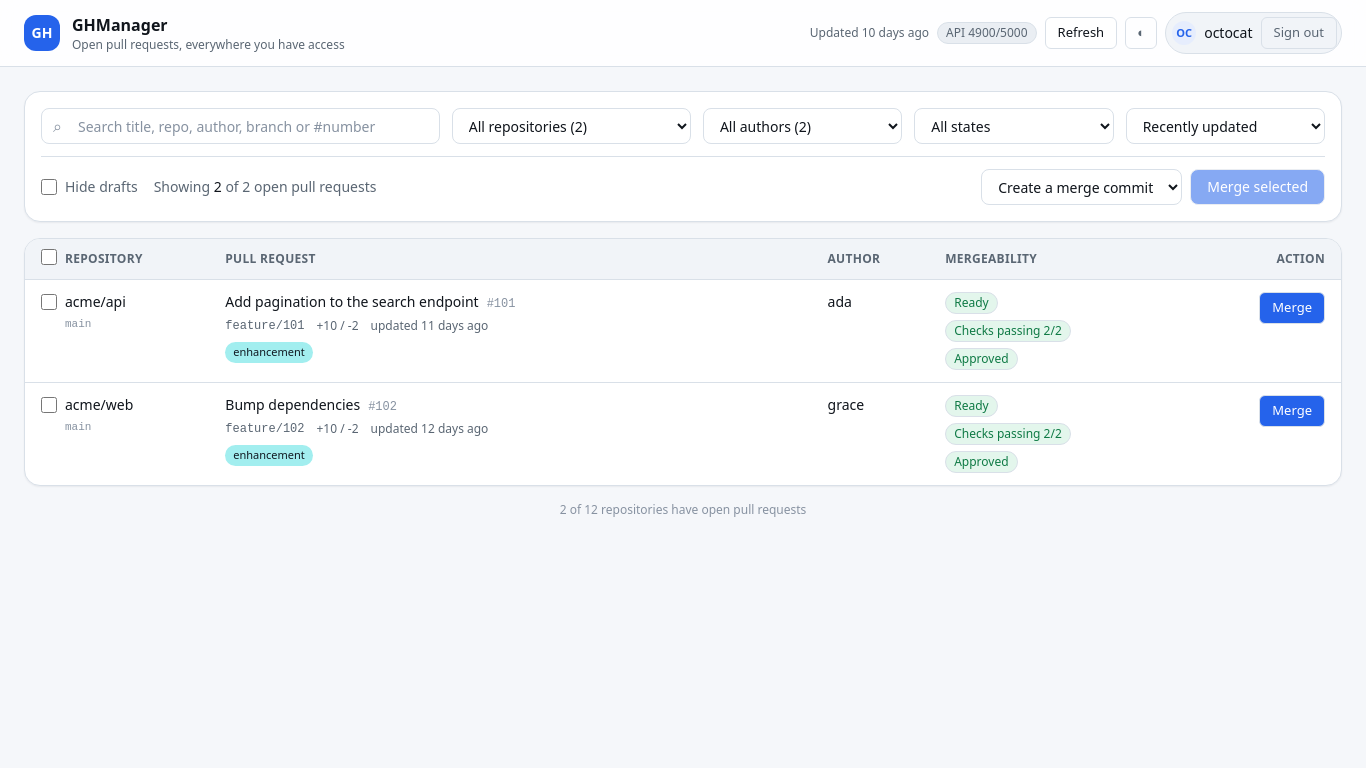
it: Dashboard bulk merge › reports a mixed outcome and lists each failure
The image size is (1366, 768).
Expected: the table is shown, [25,239,1341,485]
Click the checkbox named "Select all 2 mergeable pull requests in view". click: coordinates (49, 257)
box: [41,249,57,265]
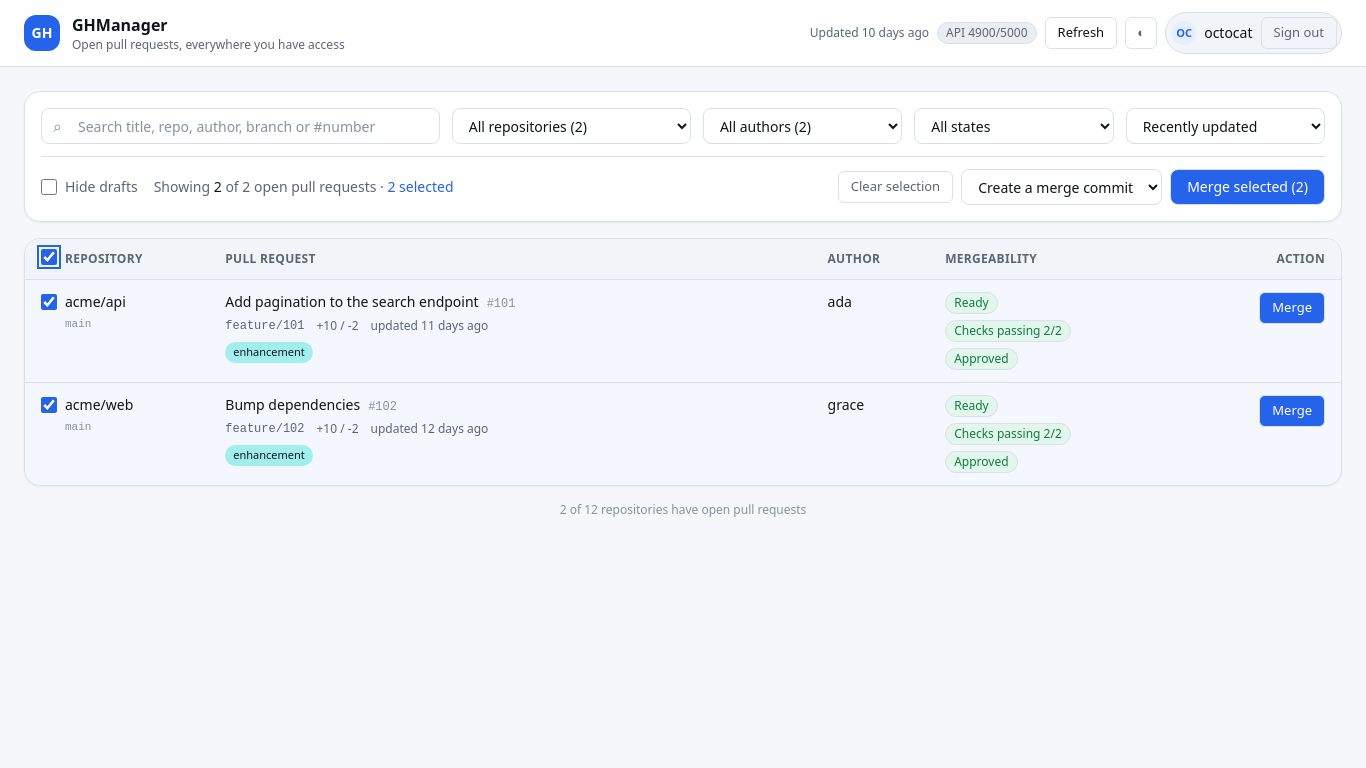
Click the button "Merge selected (2)". click: coordinates (1248, 187)
box: [1170,169,1325,205]
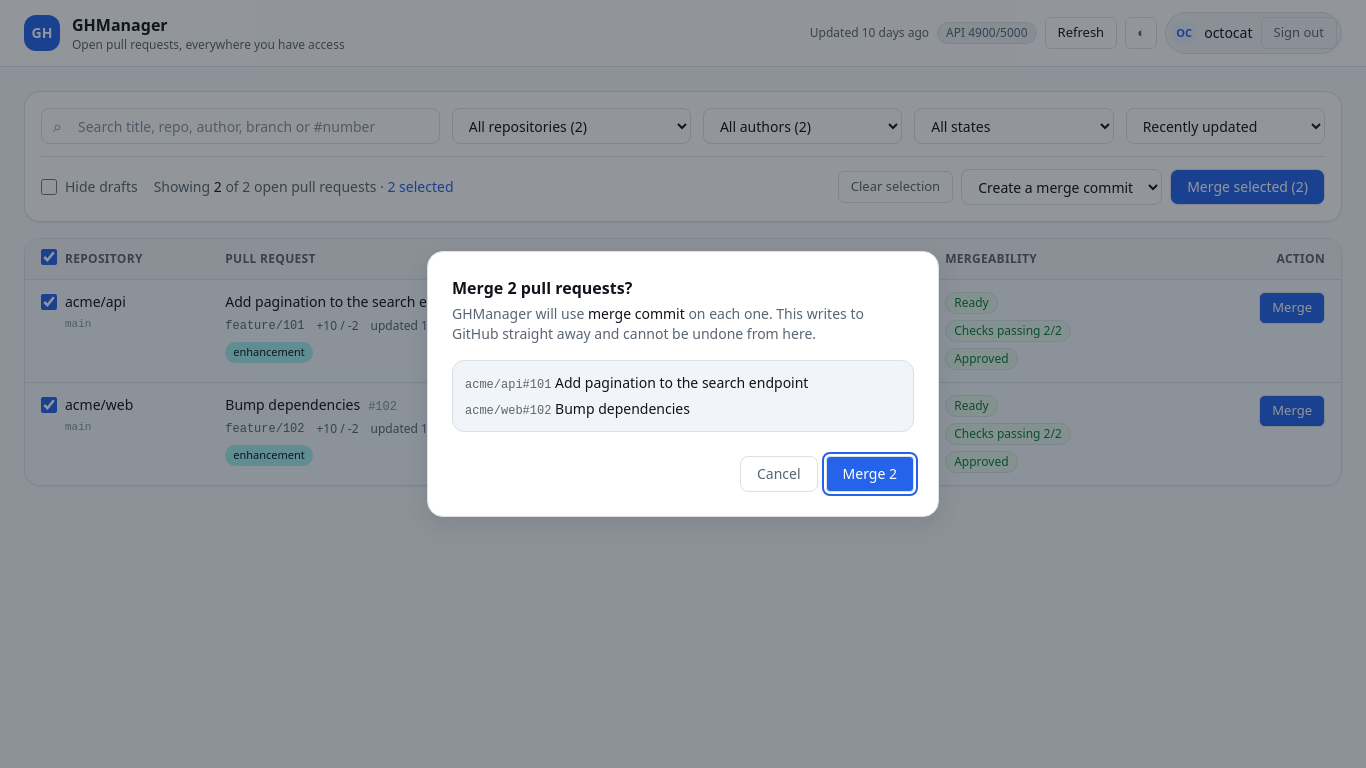
Click the button "Merge 2". click: coordinates (870, 474)
box: [826,456,914,492]
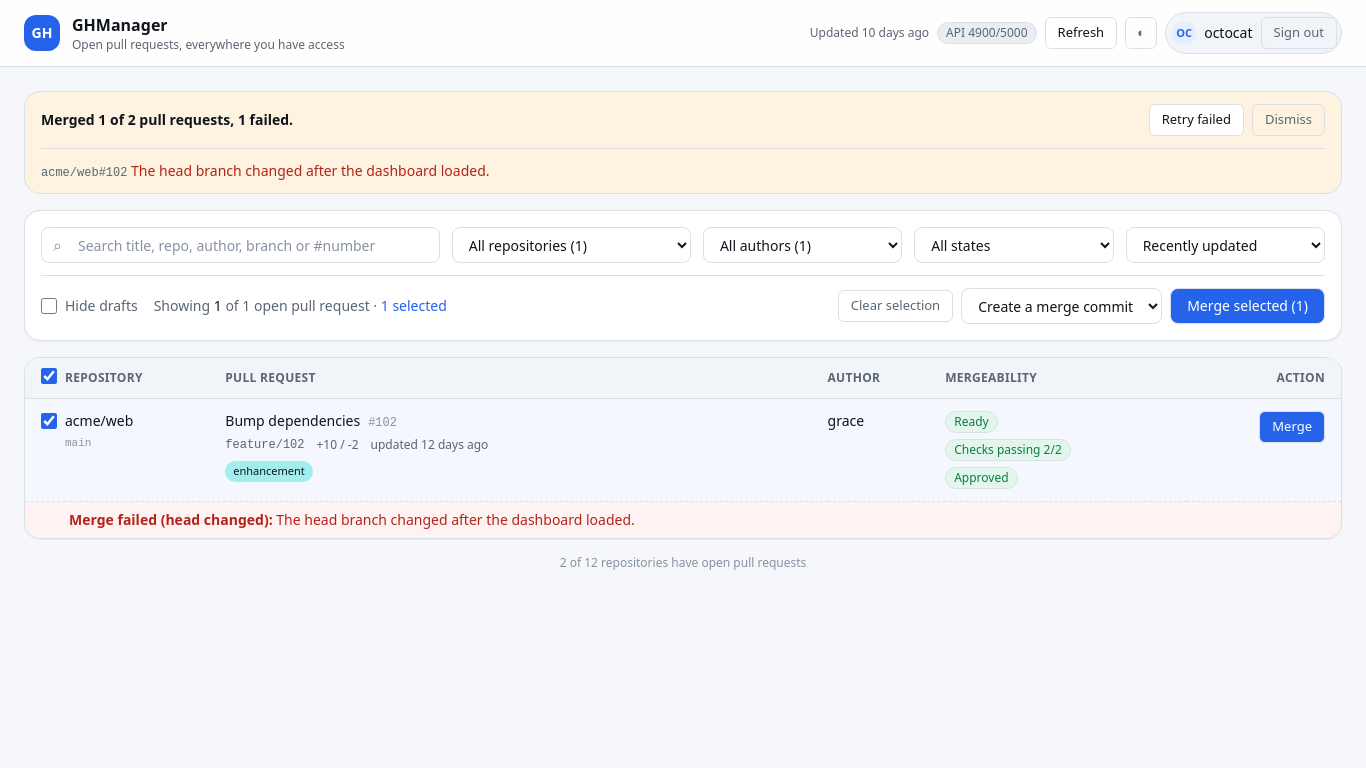
Now the message with test id "merge-summary" shows "Merged 1 of 2 pull requests, 1 failed.", box [41,110,293,129]
Now the message with test id "merge-summary" shows "acme/web#102", box [24,91,1342,194]
Now the message with test id "merge-summary" shows "The head branch changed after the dashboard loaded.", box [131,161,490,180]
